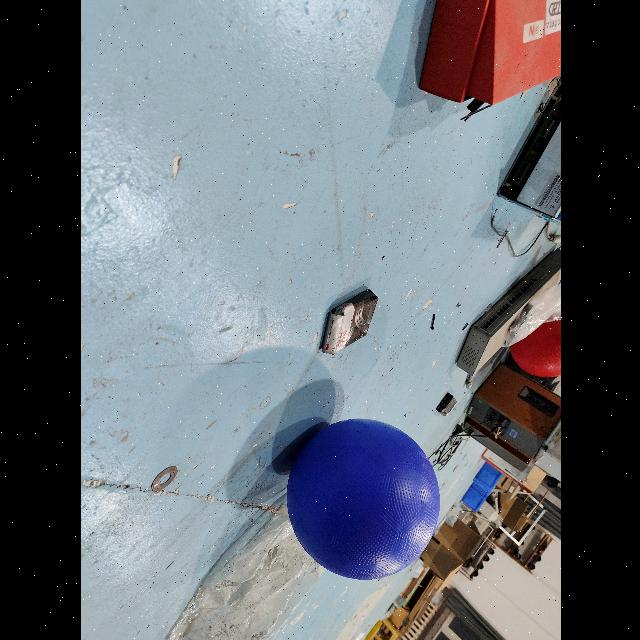B: (285, 417, 441, 581)
